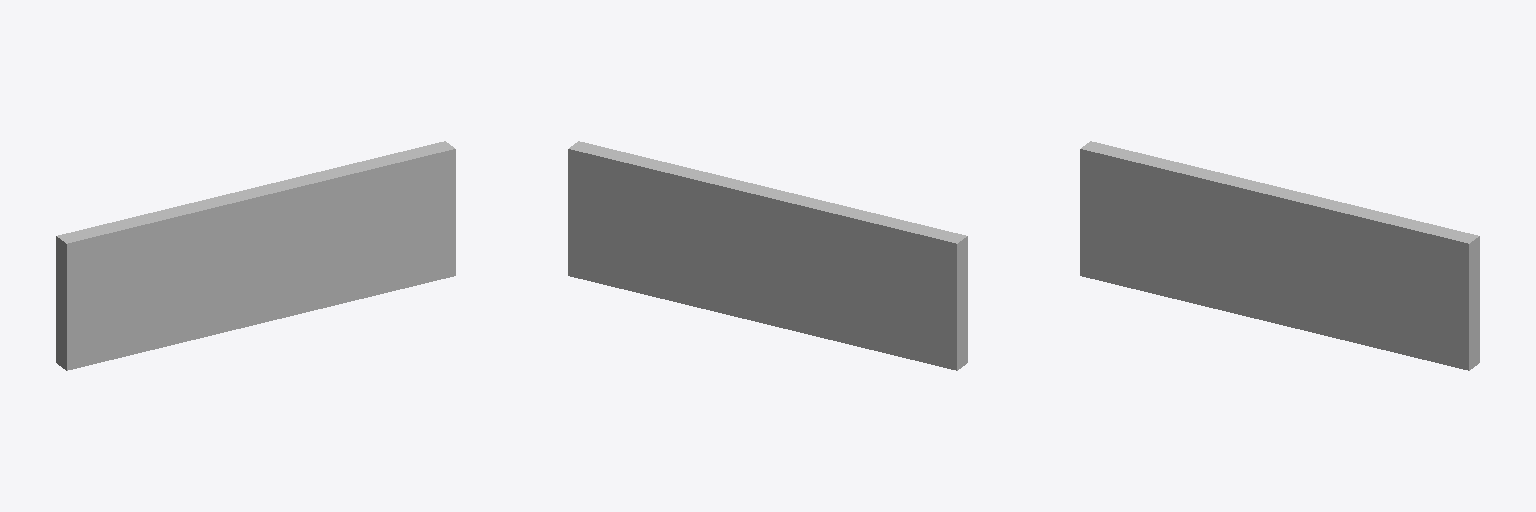
File: wall.obj
The picture shows the model from 3 angles: view 1: azimuth 30°, elevation 25°; view 2: azimuth 150°, elevation 25°; view 3: azimuth 330°, elevation 25°; orthographic projection.
Size of the model in its own units: 64 by 20 by 3.